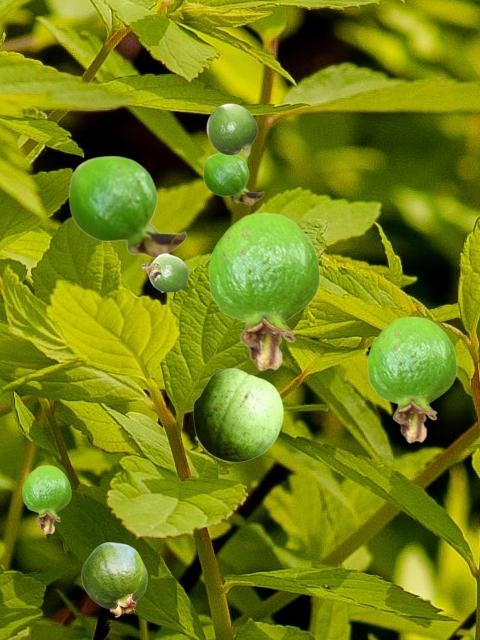guava: (208, 212, 319, 370), (68, 155, 186, 258), (367, 316, 456, 442), (193, 368, 282, 461), (81, 542, 146, 616), (22, 465, 70, 533), (203, 152, 263, 204), (206, 103, 256, 156), (141, 253, 187, 291)
